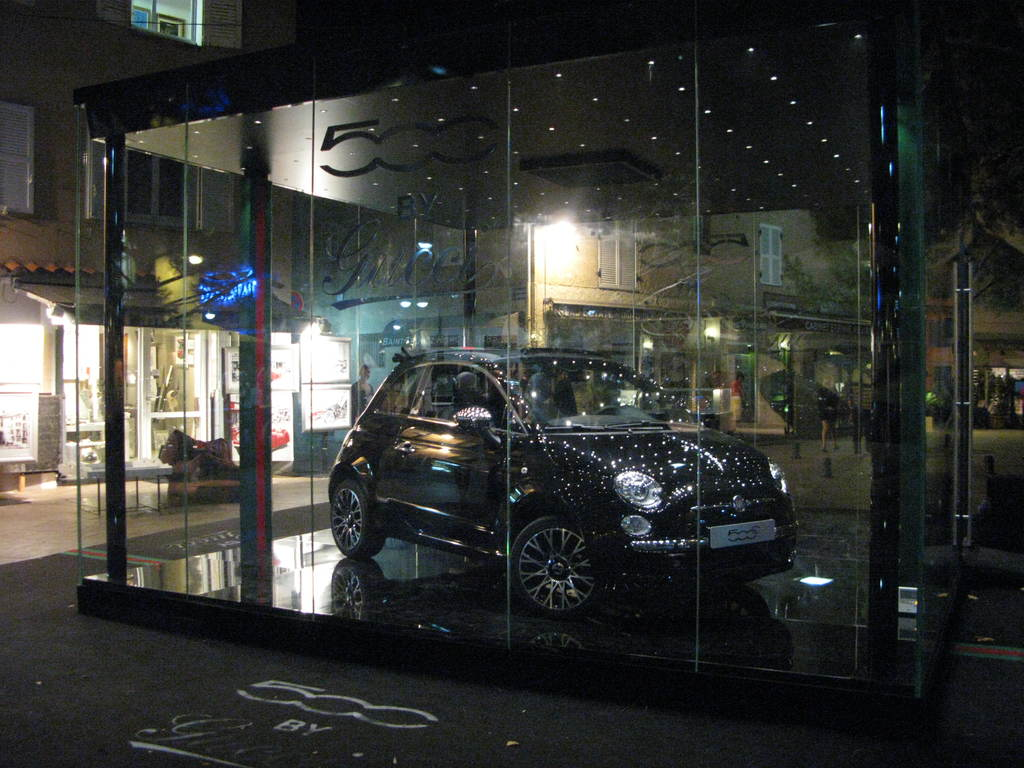mobil: (321, 324, 813, 624)
